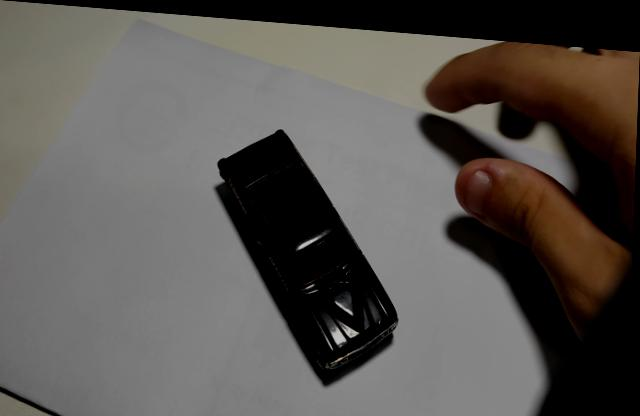01_FORD: (215, 126, 401, 383)
